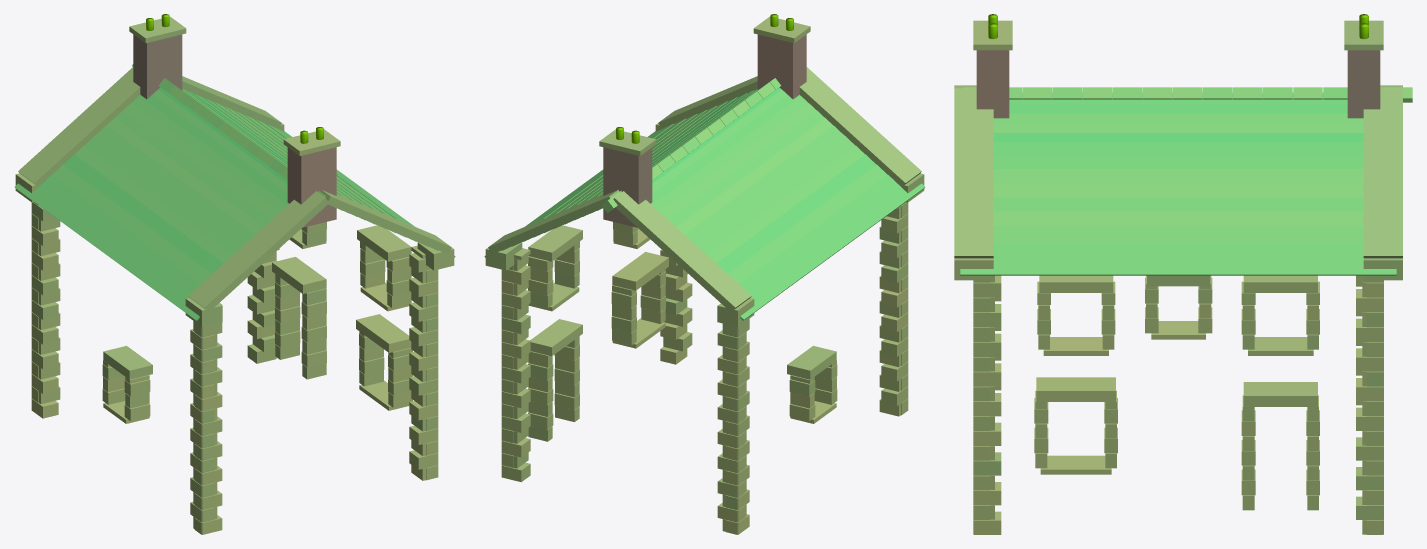
The model's file is SM_Bld_081_Stone.glb.
The picture shows the model from 3 angles, left to right: view 1: azimuth 30°, elevation 25°; view 2: azimuth 150°, elevation 25°; view 3: azimuth 270°, elevation 25°; orthographic projection. The views are drawn at different scales.
Parts seen in each view (by area): view 1: SM_Bld_081_Stone; view 2: SM_Bld_081_Stone; view 3: SM_Bld_081_Stone.
Part boxes in pixels (<box>): SM_Bld_081_Stone: <box>14,14,455,534</box>; SM_Bld_081_Stone: <box>484,14,925,534</box>; SM_Bld_081_Stone: <box>954,14,1412,534</box>.
Size of the model in its own units: 6.61 by 8.99 by 8.4.
